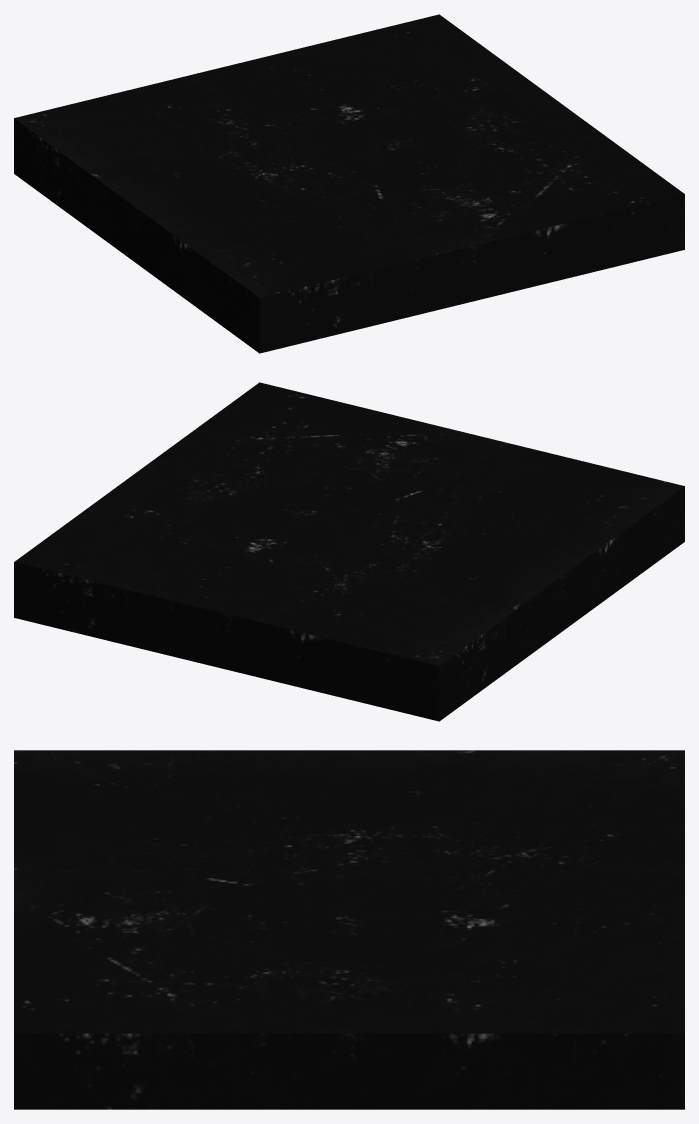
File: SM_VentCeiling.FBX
3 renders of one model, top to bottom at view 1: azimuth 30°, elevation 25°; view 2: azimuth 150°, elevation 25°; view 3: azimuth 270°, elevation 25°, orthographic. The views are drawn at different scales.
Parts seen in each view (by area): view 1: SM_VentCeiling; view 2: SM_VentCeiling; view 3: SM_VentCeiling.
Boxes of the visible parts, bbox=[...] form: SM_VentCeiling: bbox=[14, 14, 684, 353]; SM_VentCeiling: bbox=[14, 382, 684, 721]; SM_VentCeiling: bbox=[14, 750, 684, 1109].
Bounding box in the file's own units: 400 × 54.47 × 400.
